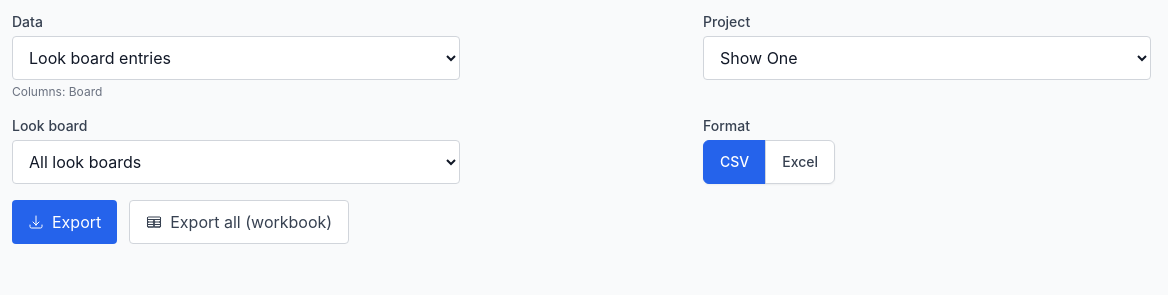
Scenario: DataExportPanel › allows exporting all look boards when no board is chosen
expect the dropdown labelled "Look board" shows "All look boards": met, box [12,140,460,184]
Step 1. Click the button "Export" → (65, 222), box [12,200,117,244]
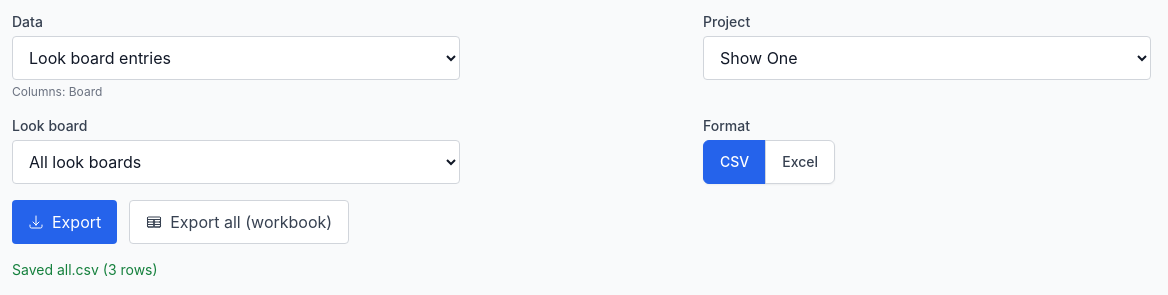
expect the text with test id "data-export-result" shows "Saved all.csv": met, box [12,261,158,278]
Step 2. Select "Main" in the dropdown labelled "Look board" → (236, 162), box [12,140,460,184]
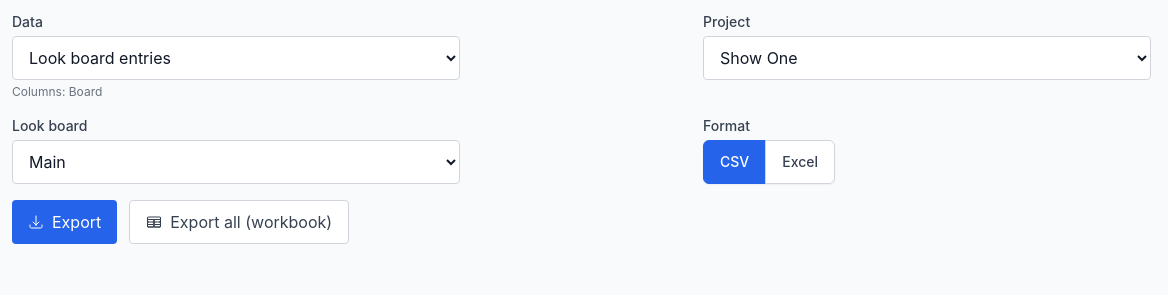
expect the text with test id "data-export-result" is gone: met
Step 3. Click the button "Export" → (65, 222), box [12,200,117,244]
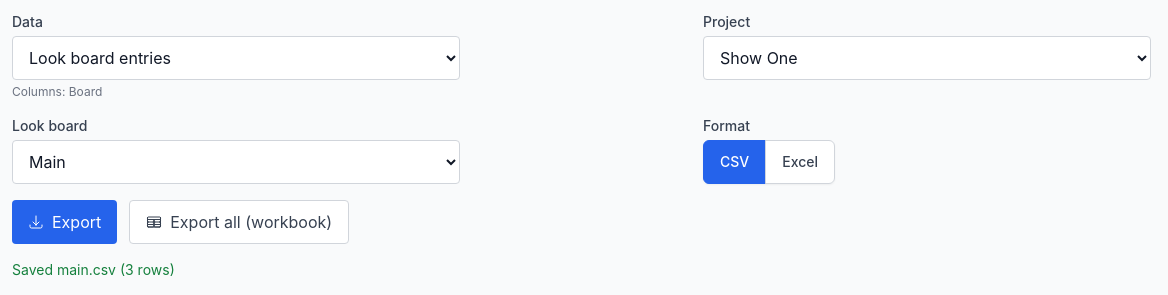
expect the text with test id "data-export-result" shows "Saved main.csv": met, box [12,261,175,278]
